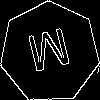M: (24, 27, 76, 82)
